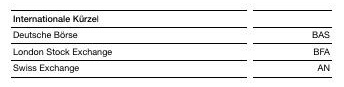table: (0, 0, 344, 87)
